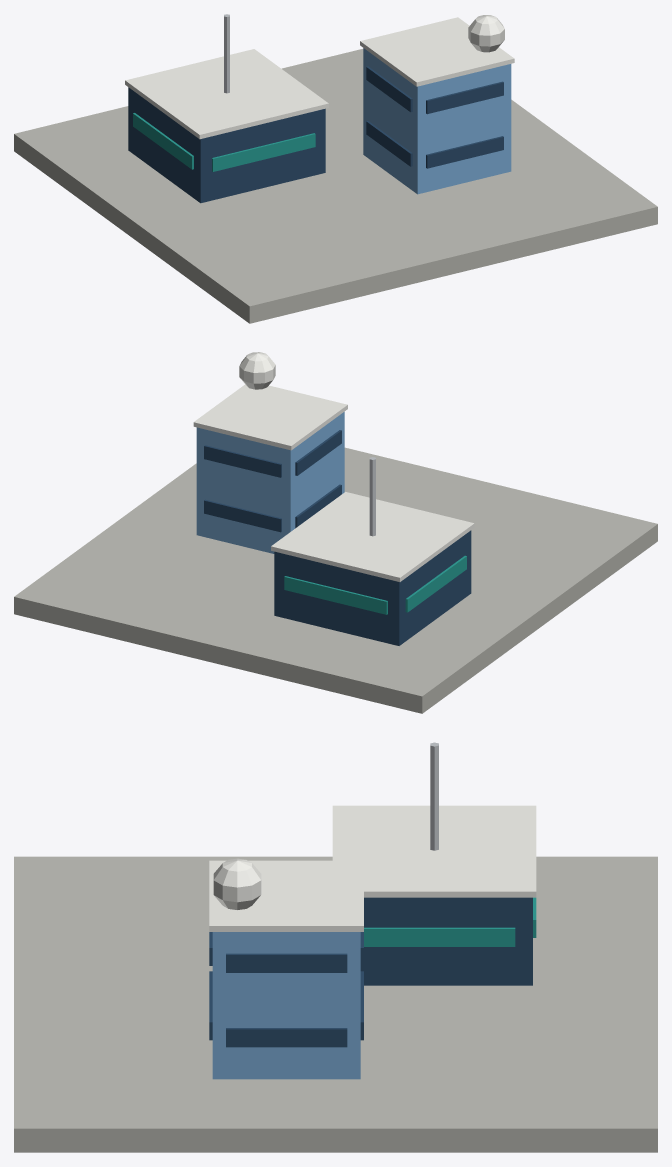
The model's file is finance_special_2.glb.
3 renders of one model, top to bottom at view 1: azimuth 30°, elevation 25°; view 2: azimuth 150°, elevation 25°; view 3: azimuth 270°, elevation 25°, orthographic. The views are drawn at different scales.
Visible parts, largest first — view 1: finance_special_2; view 2: finance_special_2; view 3: finance_special_2.
Boxes of the visible parts, left/top/right/bottom form: finance_special_2: left=14, top=14, right=657, bottom=323; finance_special_2: left=14, top=352, right=657, bottom=713; finance_special_2: left=14, top=742, right=657, bottom=1152.
Bounding box in the file's own units: 1.96 × 0.78 × 1.96.
